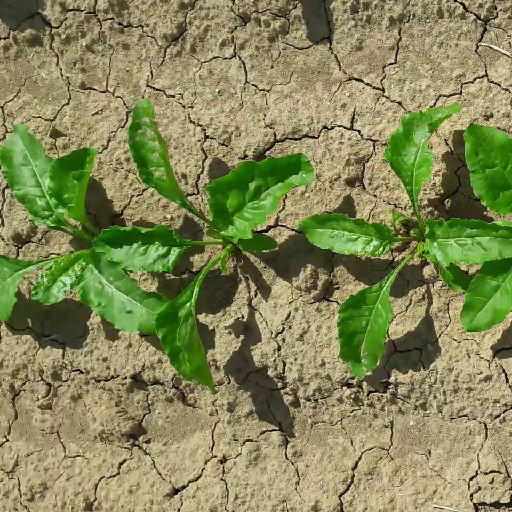sugarbeet: (298, 99, 512, 380), (124, 95, 318, 398), (1, 119, 183, 335)
